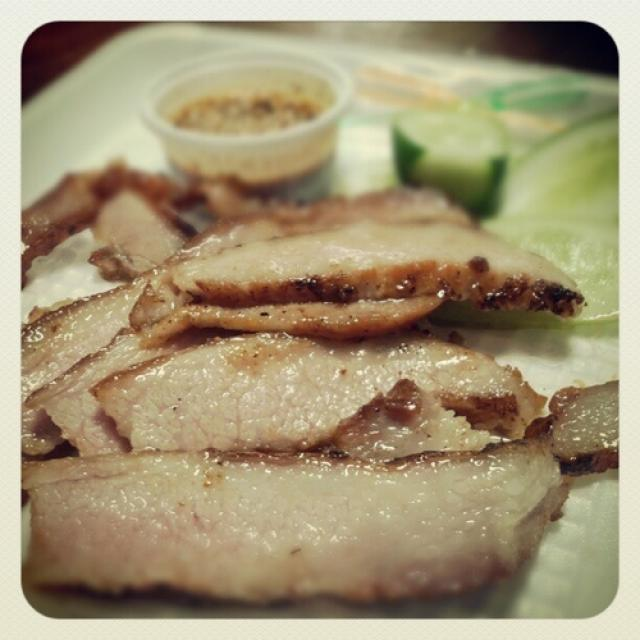猪肉菜式: (36, 67, 613, 599)
